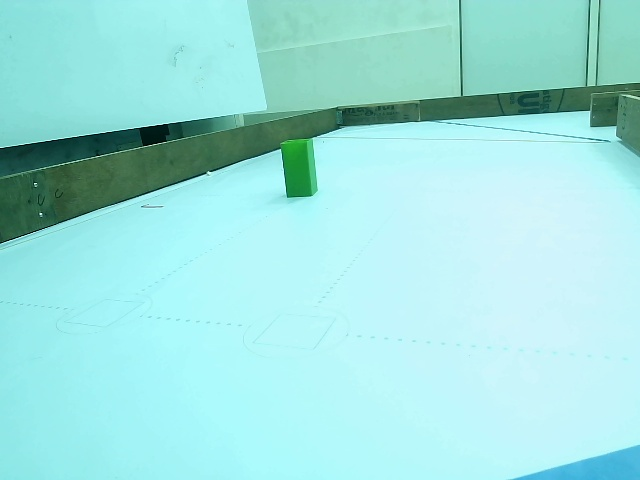green: (280, 139, 317, 198)
